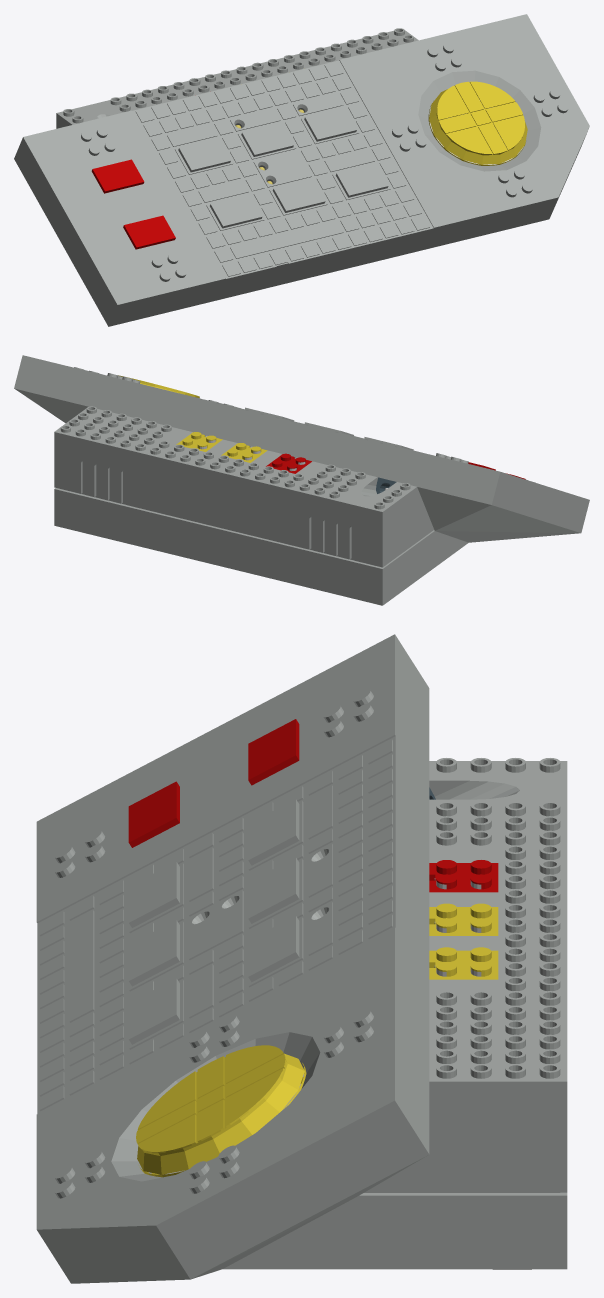
3 views of the same model, one above another, from view 1: azimuth 30°, elevation 25°; view 2: azimuth 150°, elevation 25°; view 3: azimuth 270°, elevation 25° (orthographic). The views are drawn at different scales.
Visible parts, largest first — view 1: world; view 2: world; view 3: world.
Boxes of the visible parts, x1,y1,x2,y2 form: world: (14, 14, 589, 326); world: (14, 355, 589, 605); world: (36, 634, 567, 1283).
Bounding box in the file's own units: 0.256 × 0.0657 × 0.1231.
